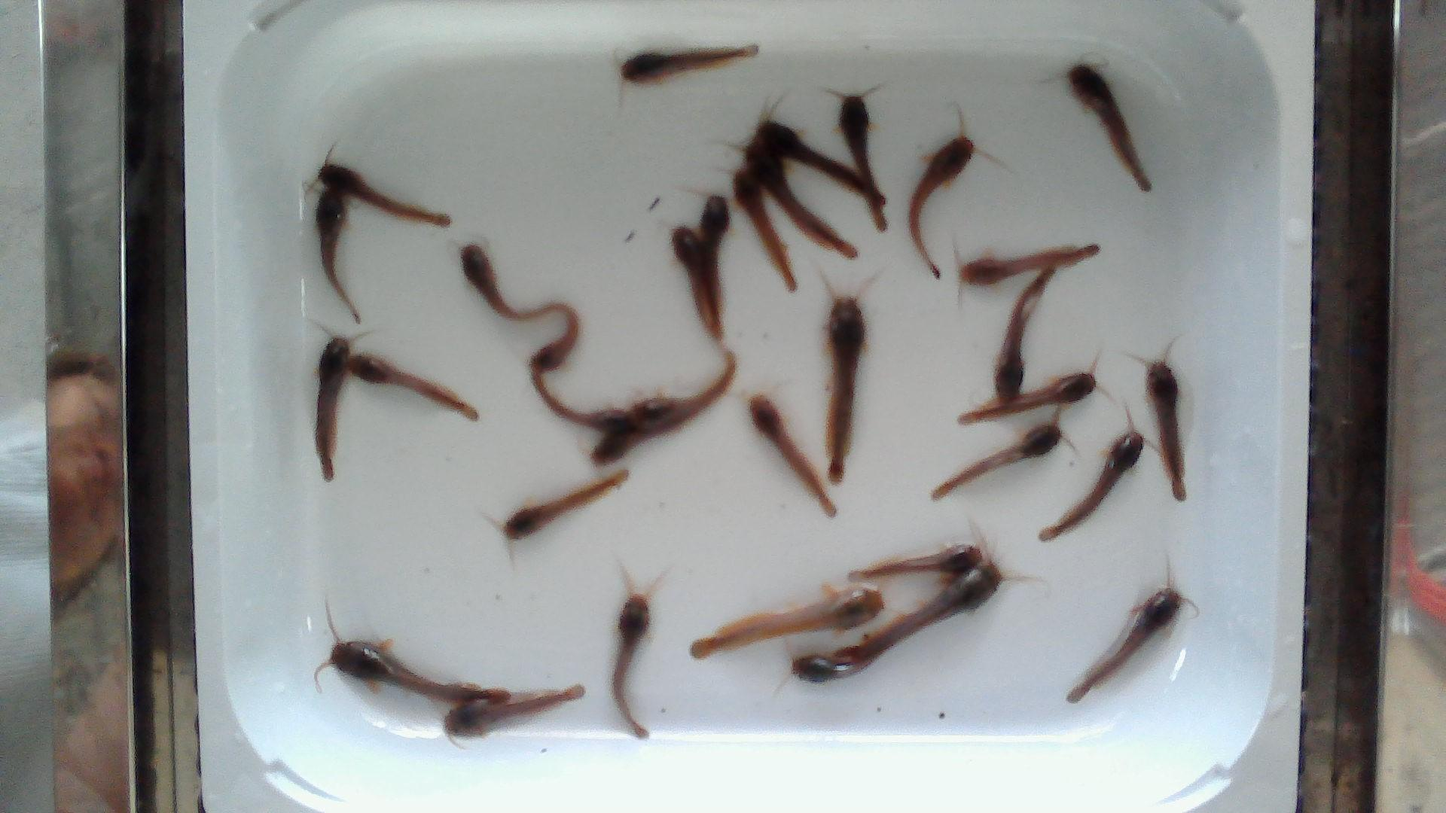lele: (837, 561, 999, 657), (746, 133, 858, 258), (691, 586, 883, 658), (1067, 586, 1182, 702), (325, 640, 506, 703), (1040, 430, 1142, 540), (757, 122, 887, 204), (749, 394, 836, 516), (1068, 65, 1151, 191), (933, 422, 1061, 498), (908, 132, 974, 276), (344, 354, 478, 421), (503, 469, 627, 537), (631, 348, 732, 431), (318, 164, 451, 227), (440, 687, 587, 742), (994, 270, 1054, 402), (734, 166, 796, 291), (825, 297, 865, 483), (959, 373, 1096, 424), (461, 245, 545, 319), (840, 96, 886, 230), (314, 186, 356, 322), (672, 227, 722, 341), (961, 244, 1099, 285), (612, 594, 649, 738), (794, 636, 910, 681), (530, 377, 628, 430), (1147, 361, 1184, 500), (621, 45, 758, 82), (314, 340, 348, 481), (850, 544, 983, 580), (592, 416, 688, 464), (701, 197, 727, 331), (532, 303, 575, 375)
